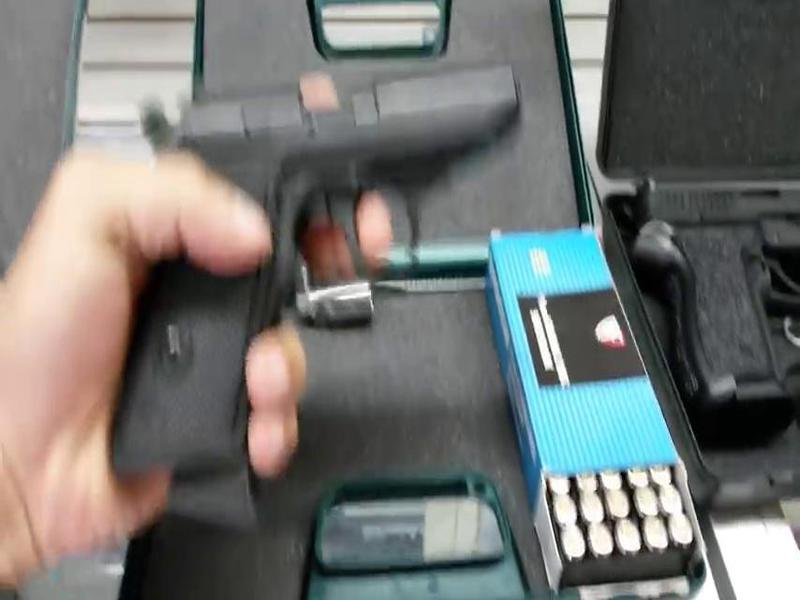Pistola: (99, 43, 532, 465)
